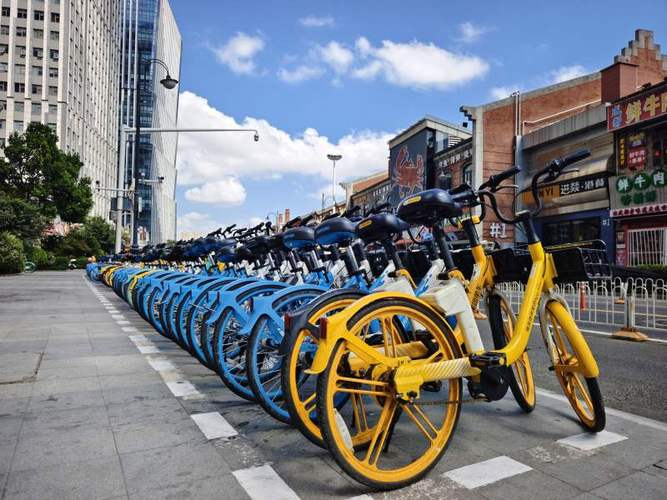单车: (294, 150, 644, 489)
